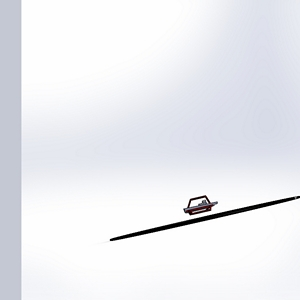circle: (94, 175, 300, 259)
submarine: (177, 188, 222, 222)
